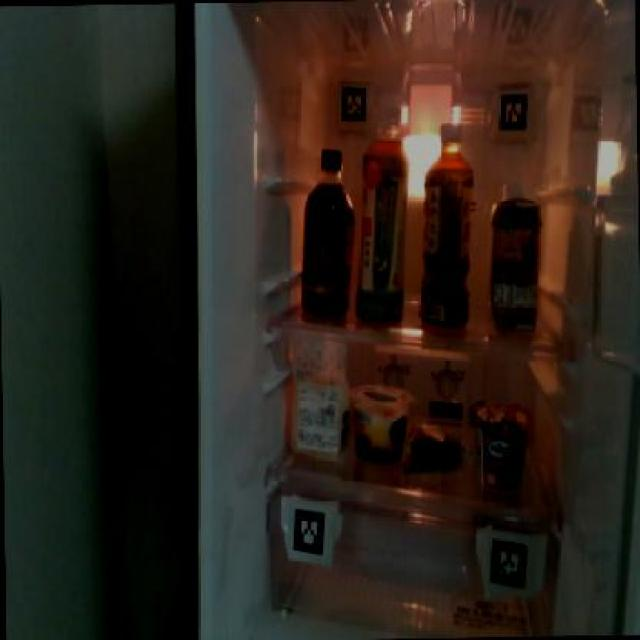coffee: (294, 144, 352, 318)
pudding: (348, 380, 404, 463)
rice_ball: (406, 419, 466, 473)
sandwich: (286, 333, 349, 459)
smoothie: (485, 176, 544, 333)
tea_a: (413, 121, 476, 328)
tea_i: (351, 124, 411, 324)
yogurt: (470, 396, 532, 492)
